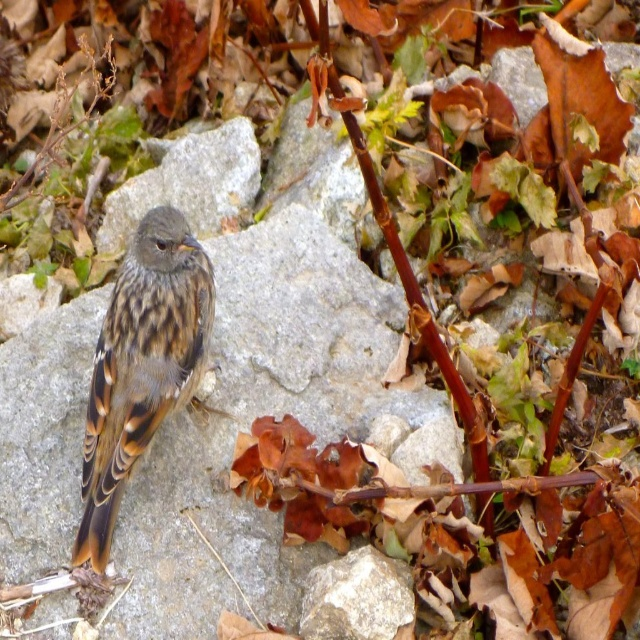Sparrow: (68, 200, 216, 576)
